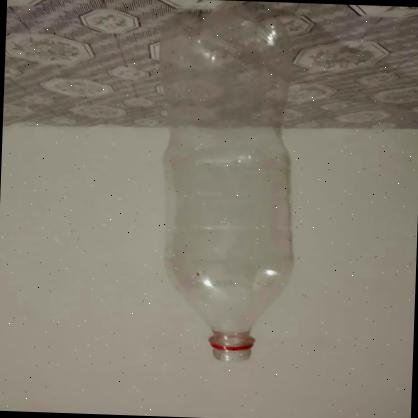bottle: (153, 2, 302, 366)
